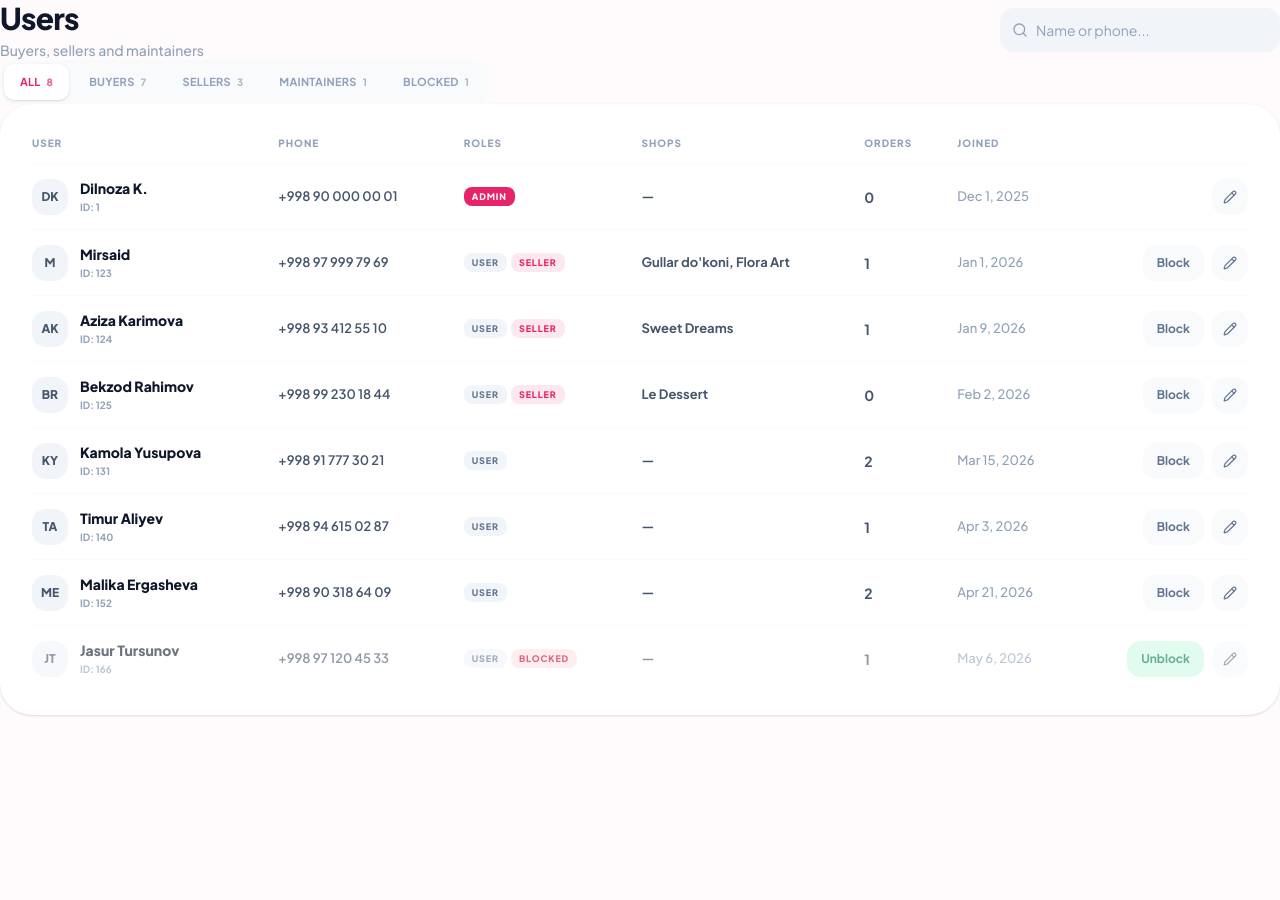
Test case: UsersPage › edits a user through the drawer
This screenshot has width=1280, height=900.
Expected: the text "Timur Aliyev" is shown, [80,508,163,528]
Click the button named "Edit" in the row of "Timur Aliyev". click: (1230, 526)
box: [1212,508,1248,544]
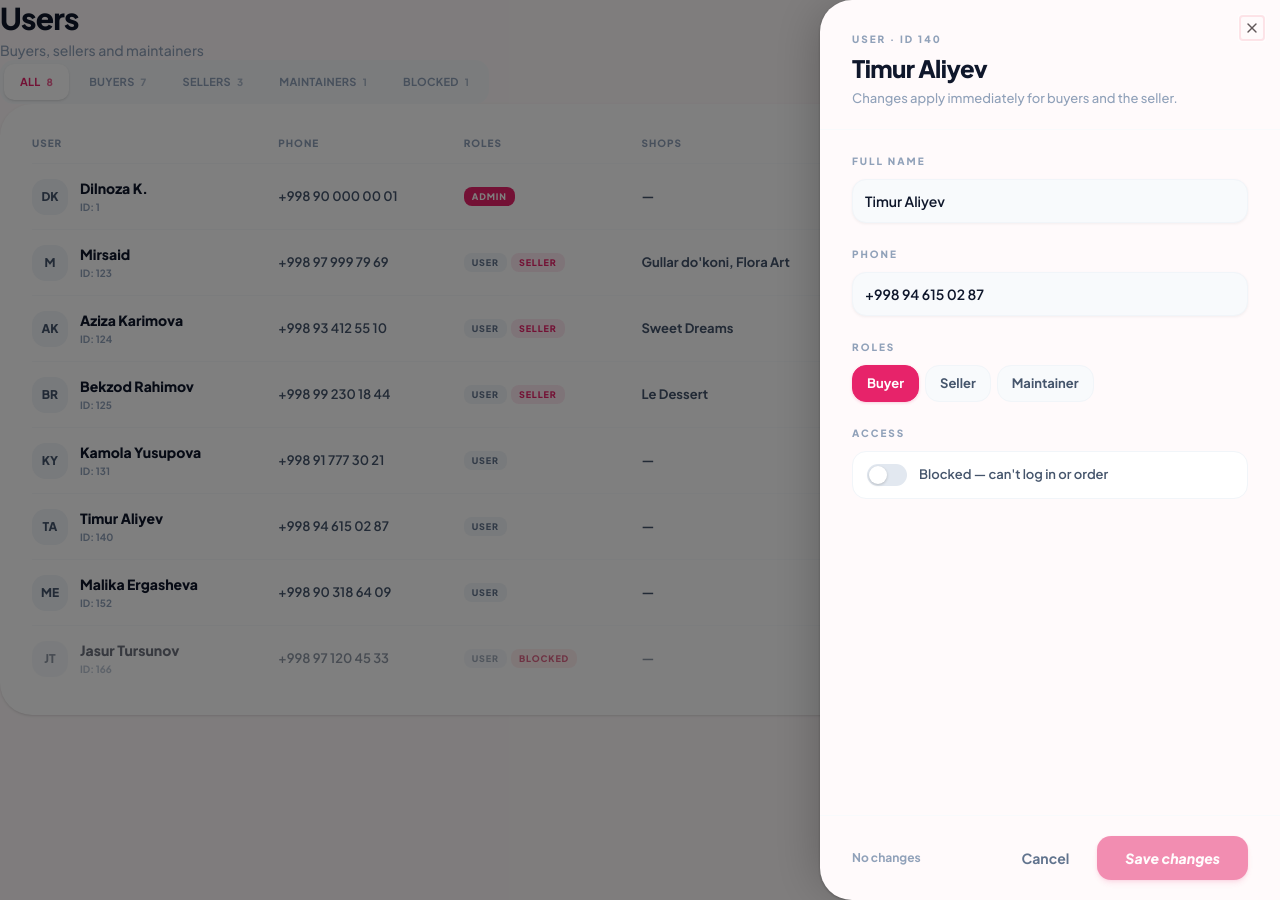
Click the button "Seller". click: (958, 383)
box: [925,364,991,402]
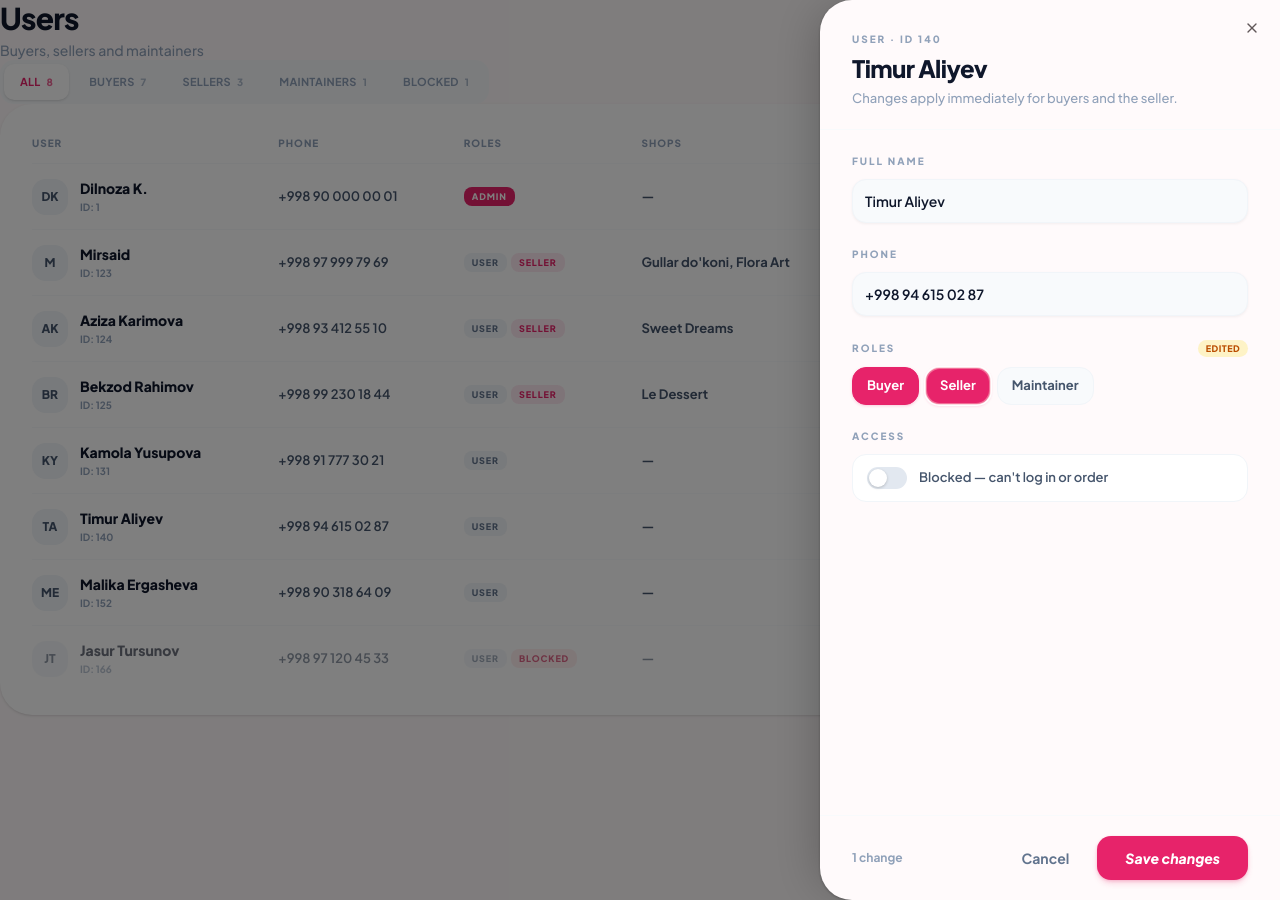
Click the button "Save changes". click: (1173, 858)
box: [1097,836,1248,880]
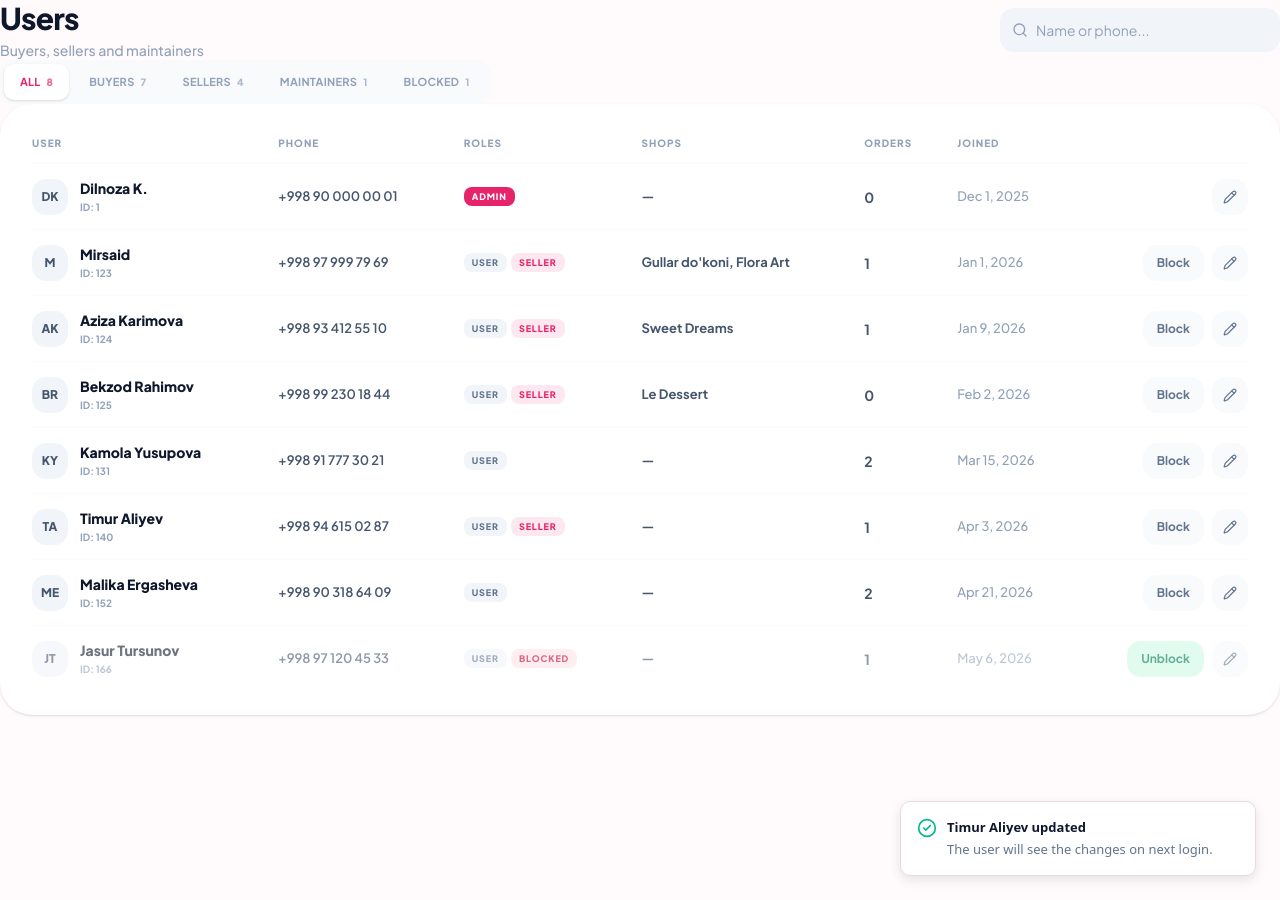
Result: the text "Timur Aliyev updated" is shown at [947,818,1086,836]
Result: the dialog is gone
Result: the text "SELLER" in the row of "140" is shown at [519,521,557,532]
